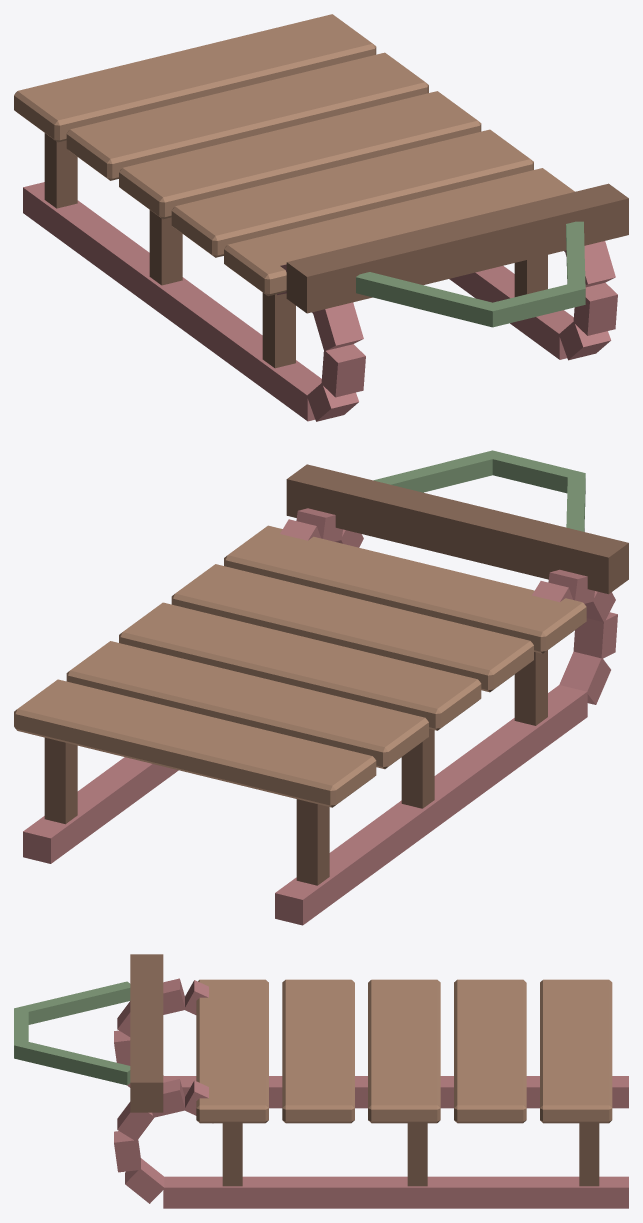
Rendered from sb_sled.glb.
3 views of the same model, one above another, from view 1: azimuth 30°, elevation 25°; view 2: azimuth 150°, elevation 25°; view 3: azimuth 270°, elevation 25° (orthographic). The views are drawn at different scales.
Parts seen in each view (by area): view 1: sled; view 2: sled; view 3: sled.
Boxes of the visible parts, x1,y1,x2,y2 form: sled: (14,14,628,421); sled: (14,450,628,925); sled: (14,954,628,1208).
Size of the model in its own units: 0.46 by 0.2245 by 0.9311.
